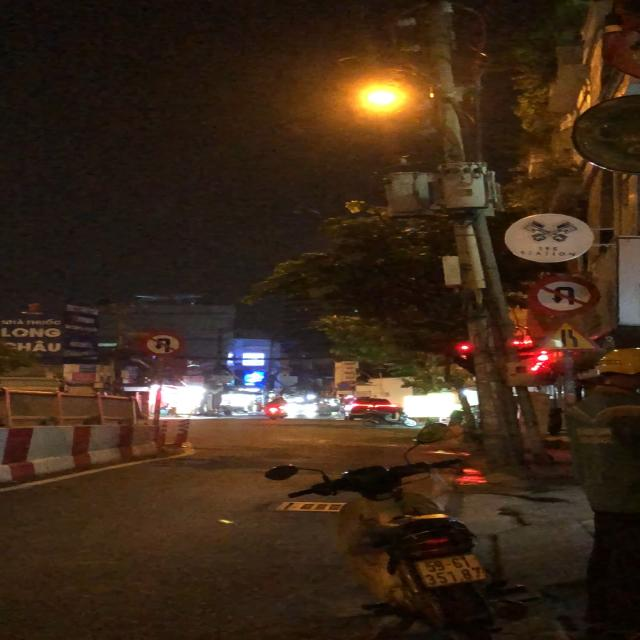Bien bao cam quay dau xe: (526, 273, 607, 315), (140, 330, 186, 358)
Bien bao duong bi thu hep: (534, 320, 606, 354)
